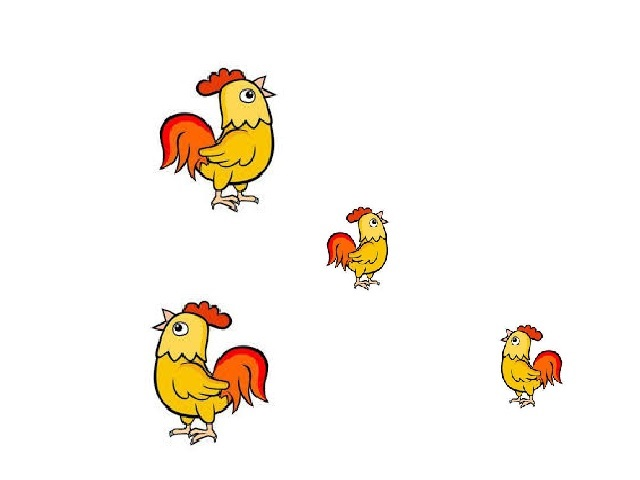crown: (195, 69, 248, 91), (186, 301, 229, 327), (343, 204, 373, 222), (519, 324, 547, 341)
eyes: (239, 89, 258, 104), (171, 322, 187, 337), (368, 216, 377, 228), (510, 337, 520, 345)
feet: (168, 423, 220, 447), (206, 189, 262, 211), (507, 394, 541, 410), (354, 276, 383, 291)
tail: (159, 109, 216, 180), (216, 347, 269, 410), (534, 349, 566, 389), (325, 232, 354, 268)
